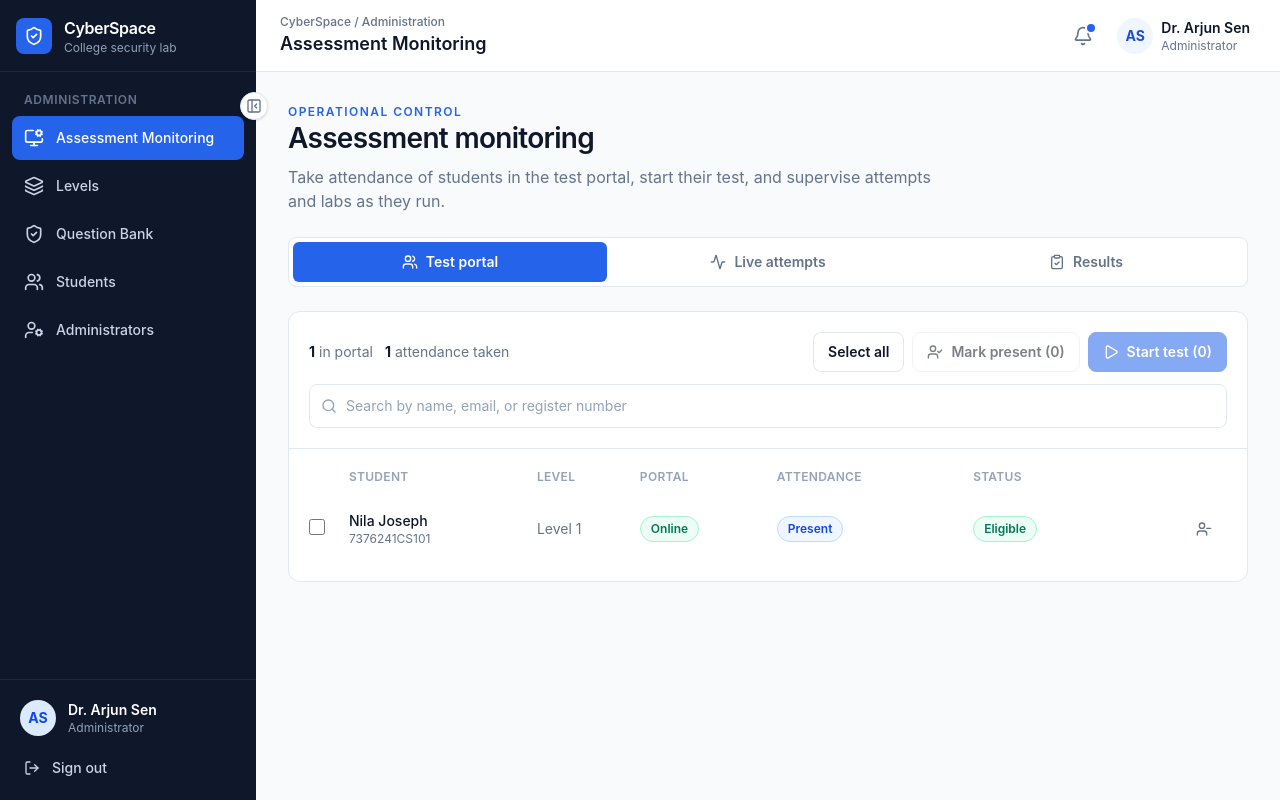
Test case: administrator monitoring › reports students the server refused
Click the checkbox named "Select Nila Joseph" at x=317, y=527, box [309,519,325,535]
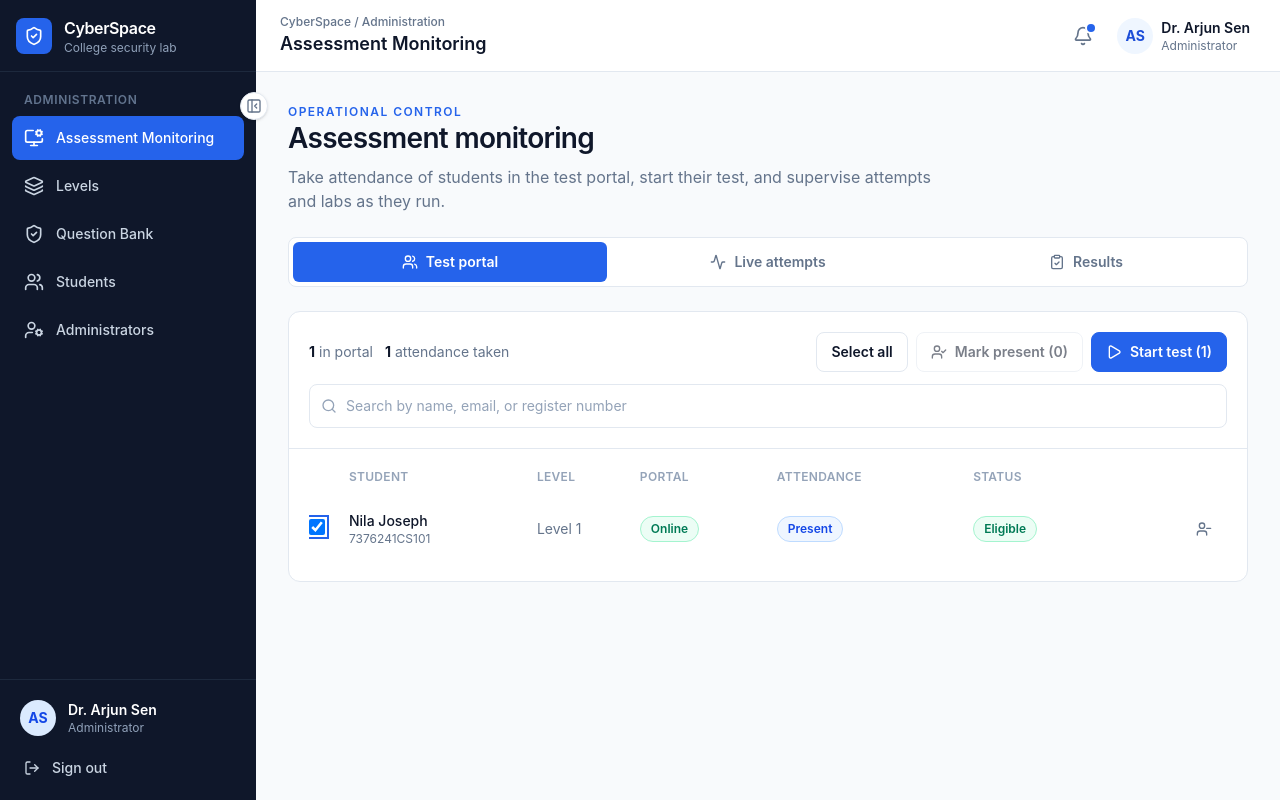
Click the button "Start test (1)" at x=1159, y=352, box [1091,332,1227,372]
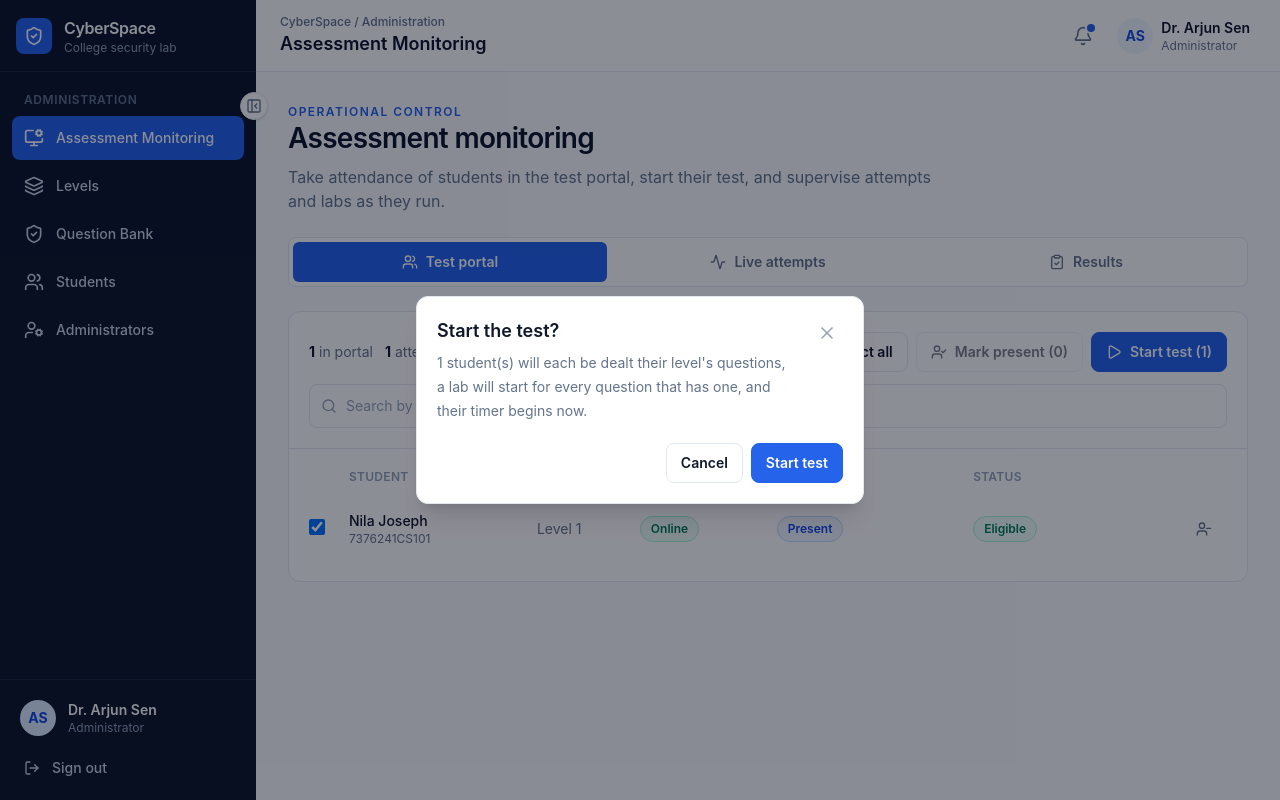
Click the button "Start test" at x=797, y=463, box [751,443,843,483]
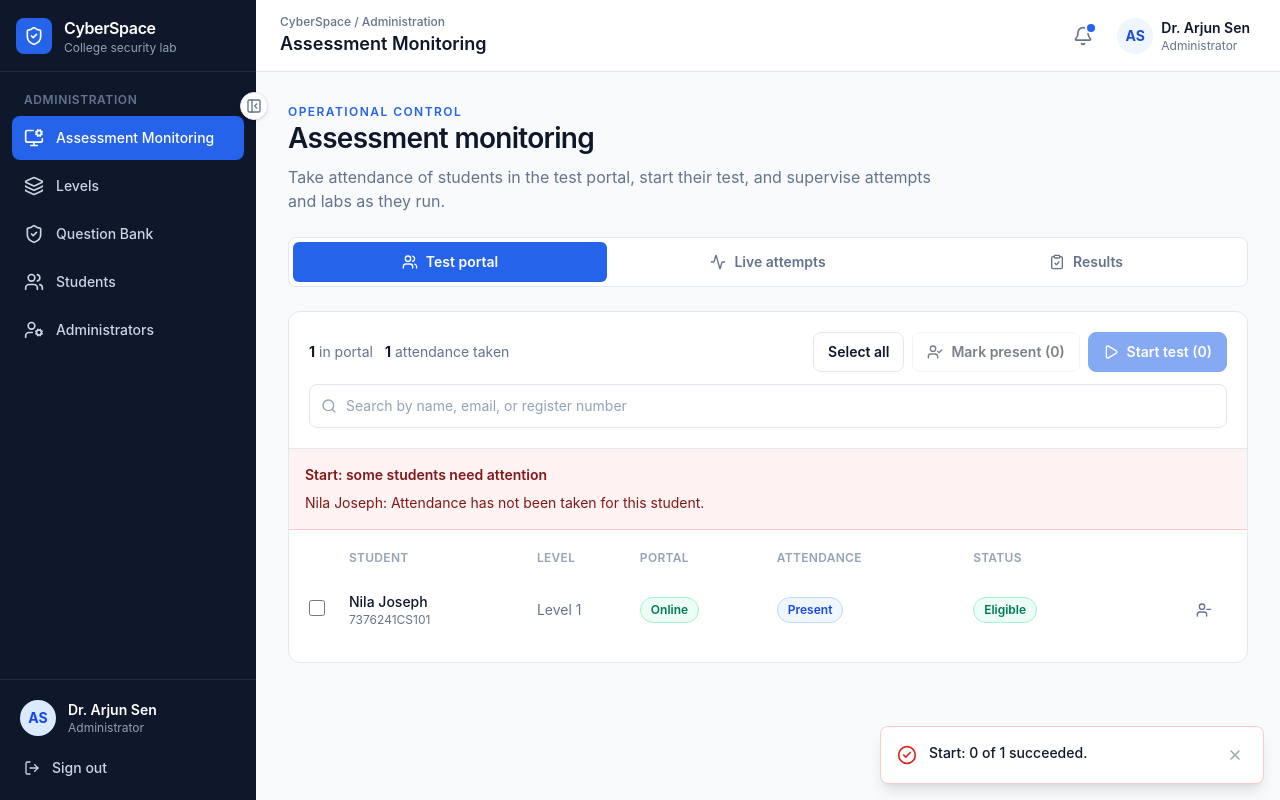
Check: the list item "Nila Joseph: Attendance has not been taken for this student." is shown, box [305,494,704,511]
